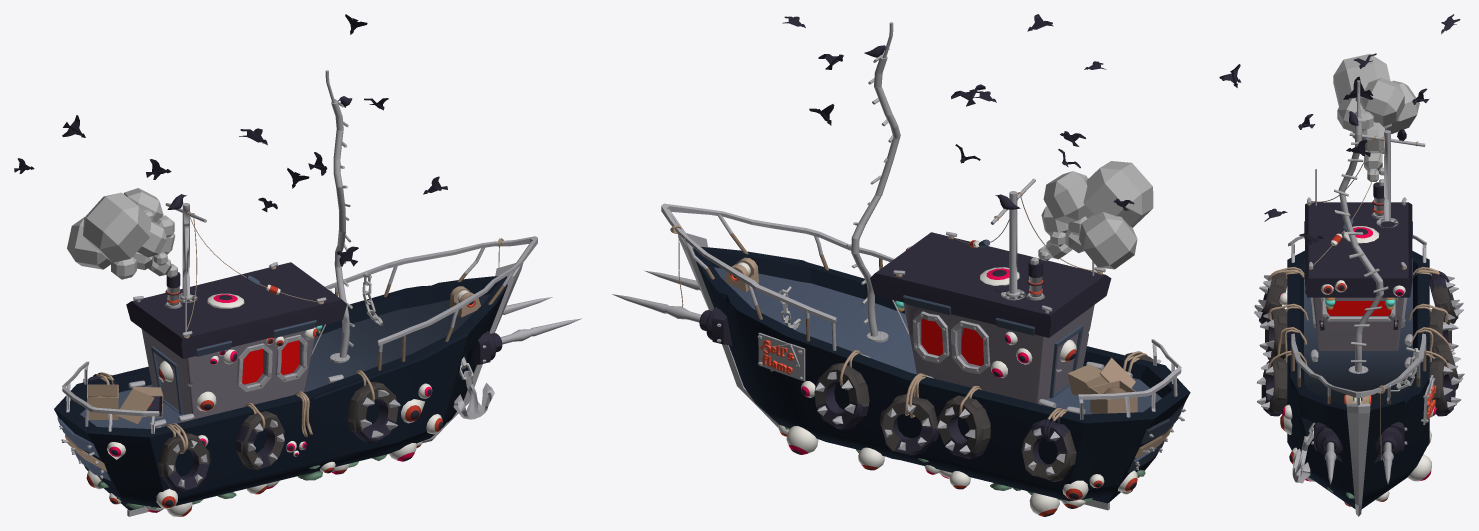
The model's file is ship_boat_2.glb.
The picture shows the model from 3 angles, left to right: view 1: azimuth 30°, elevation 25°; view 2: azimuth 150°, elevation 25°; view 3: azimuth 270°, elevation 25°; orthographic projection. The views are drawn at different scales.
Visible parts, largest first — view 1: polySurface121_blue_0; view 2: polySurface121_blue_0; view 3: polySurface121_blue_0.
Boxes of the visible parts, left/top/right/bottom form: polySurface121_blue_0: left=14, top=14, right=581, bottom=516; polySurface121_blue_0: left=612, top=14, right=1190, bottom=516; polySurface121_blue_0: left=1219, top=14, right=1464, bottom=516.
Size of the model in its own units: 14.97 by 11.74 by 6.43.
1 material, 1 textured.
